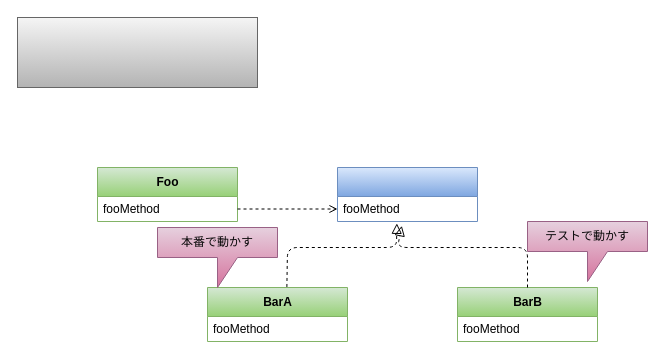
This 665x359 diagram has some shape labels left out. Each missing label, with the box of its shape:
Bar <インターフェース>: (336, 166, 478, 222)
DI(Dependency Injection)~依存性の注入 使われる側のオブジェクトを用意し、使う側に渡し、使う側から渡されたオブジェクトから呼び出す: (16, 16, 258, 88)
